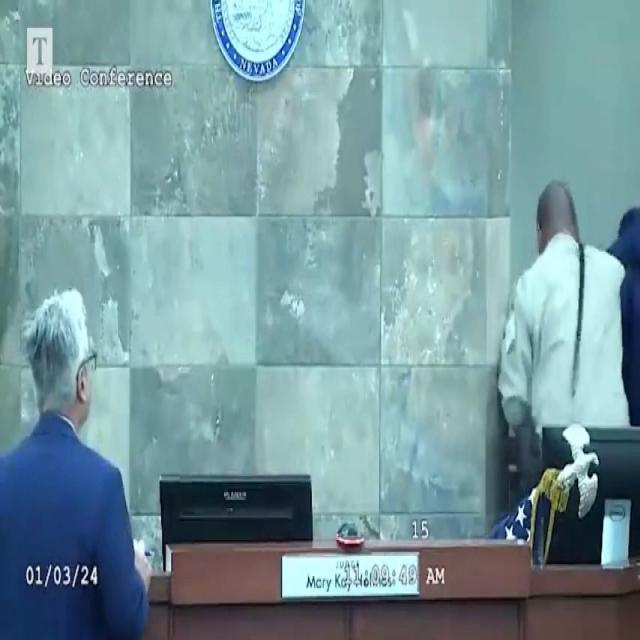non-fight: (1, 289, 153, 640), (496, 178, 630, 533)
